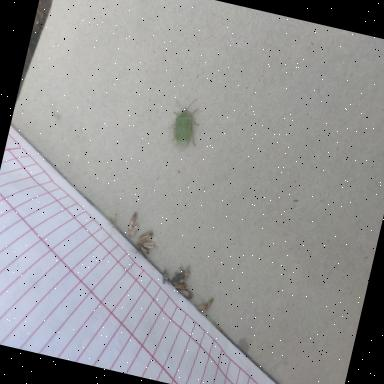pbw: (136, 229, 154, 247), (126, 212, 138, 234), (176, 288, 195, 300), (141, 238, 157, 249), (128, 224, 139, 239), (137, 244, 151, 254), (195, 302, 208, 312), (205, 298, 214, 312), (174, 282, 188, 291)
